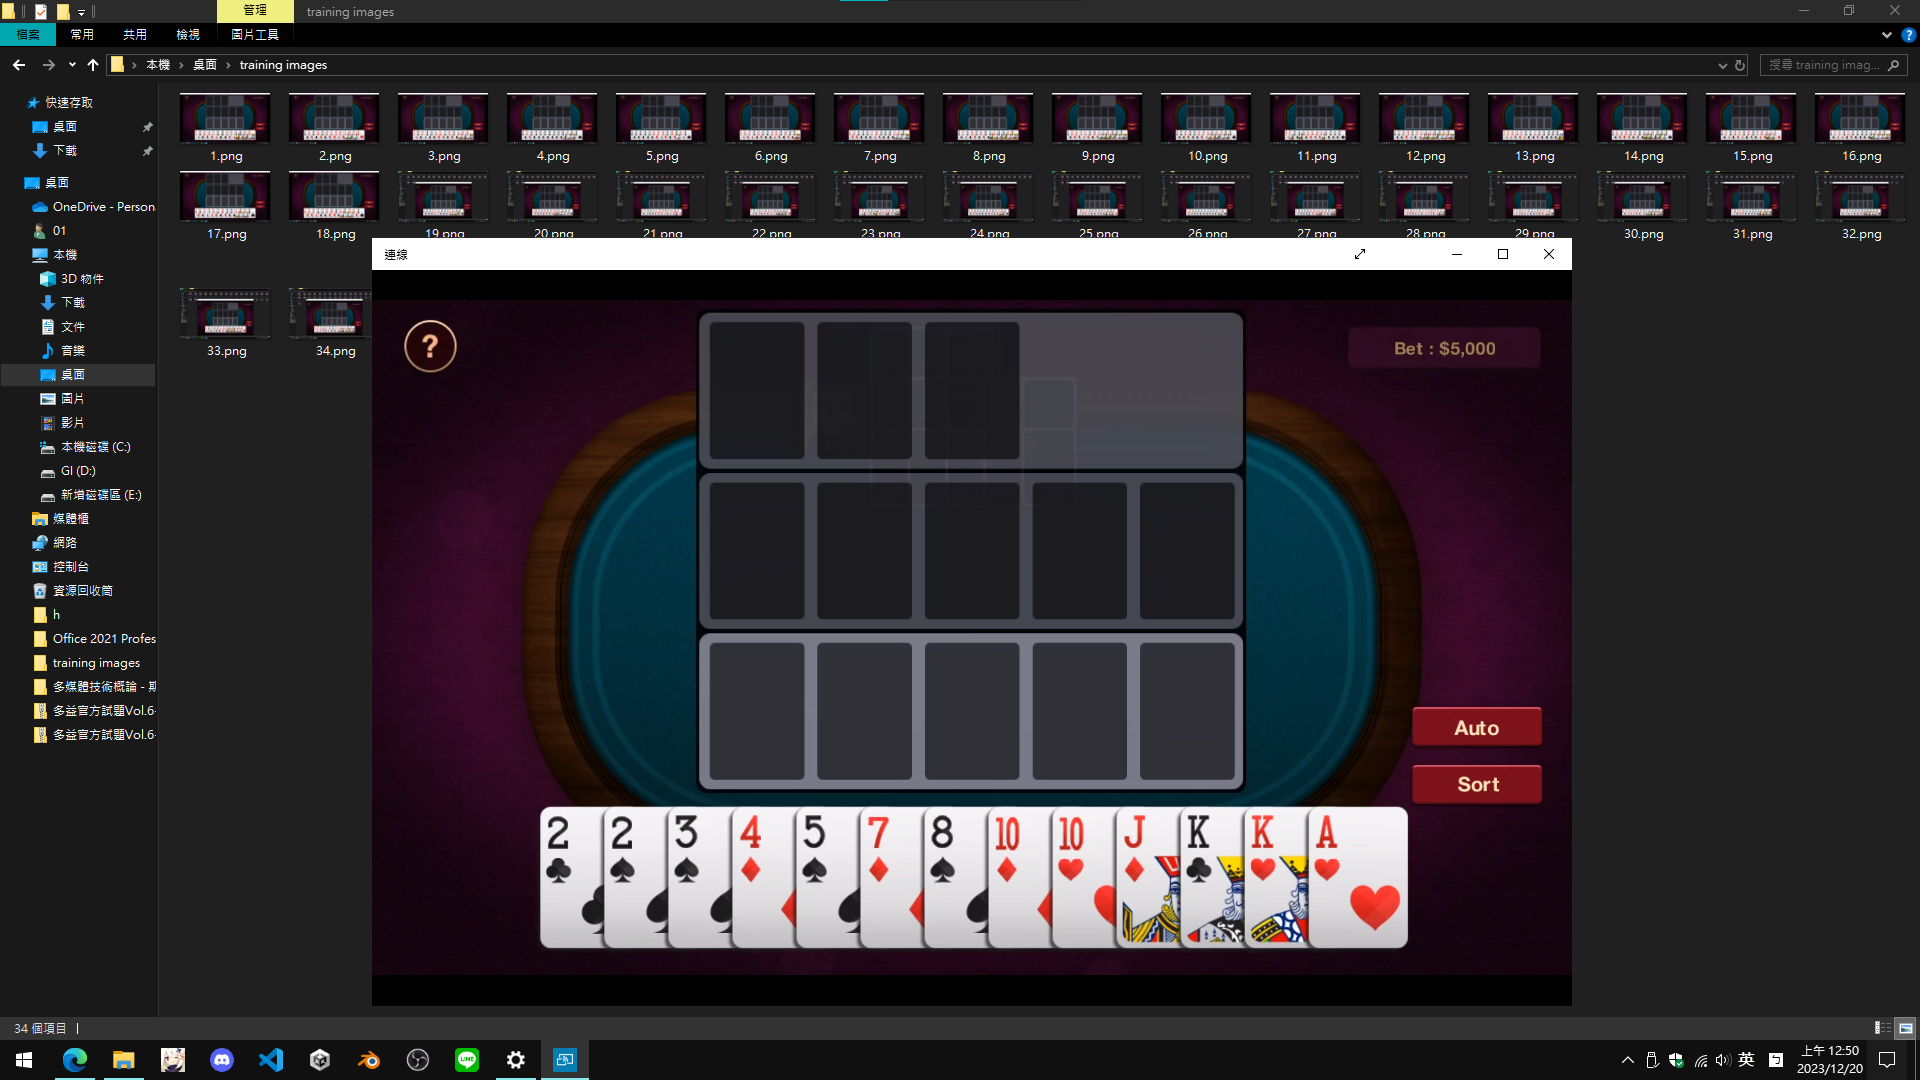10D: (992, 811, 1022, 885)
10H: (1056, 812, 1085, 885)
2C: (545, 811, 574, 889)
2S: (608, 812, 637, 886)
3S: (673, 812, 700, 891)
4D: (738, 813, 764, 885)
5S: (800, 811, 830, 886)
7D: (866, 812, 890, 885)
8S: (928, 811, 958, 888)
AH: (1311, 812, 1342, 886)
JD: (1118, 811, 1150, 885)
KC: (1185, 811, 1214, 886)
KH: (1248, 811, 1279, 885)
